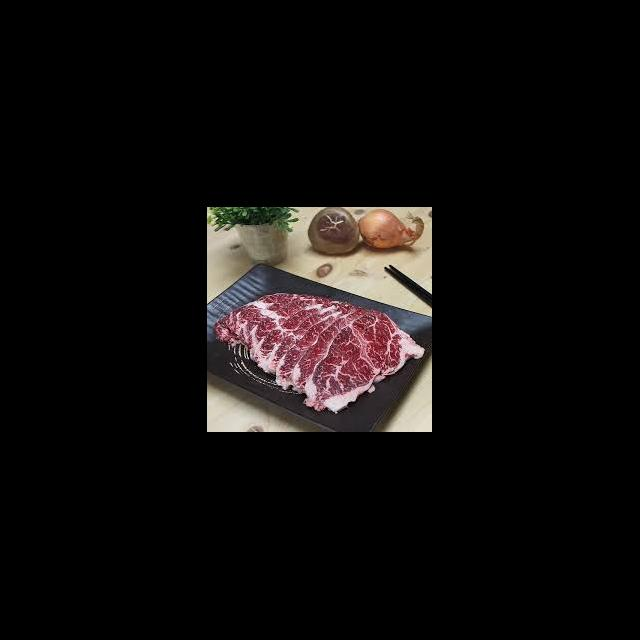beef: (218, 294, 424, 407)
